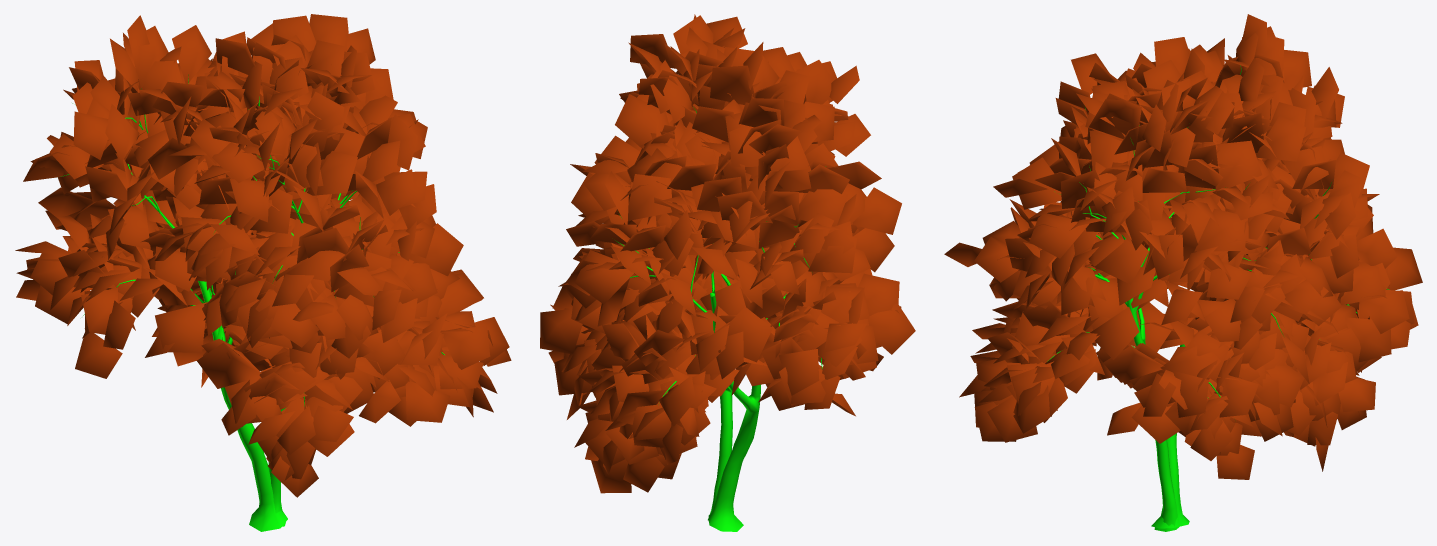
The model's file is Tree_v2.FBX.
3 renders of one model, left to right at view 1: azimuth 30°, elevation 25°; view 2: azimuth 150°, elevation 25°; view 3: azimuth 270°, elevation 25°, orthographic. The views are drawn at different scales.
Parts seen in each view (by area): view 1: Trees2; view 2: Trees2; view 3: Trees2.
Boxes of the visible parts, <box> form: Trees2: <box>15,14,511,531</box>; Trees2: <box>540,14,915,531</box>; Trees2: <box>944,14,1422,531</box>.
Size of the model in its own units: 1355 by 1753 by 1612.
